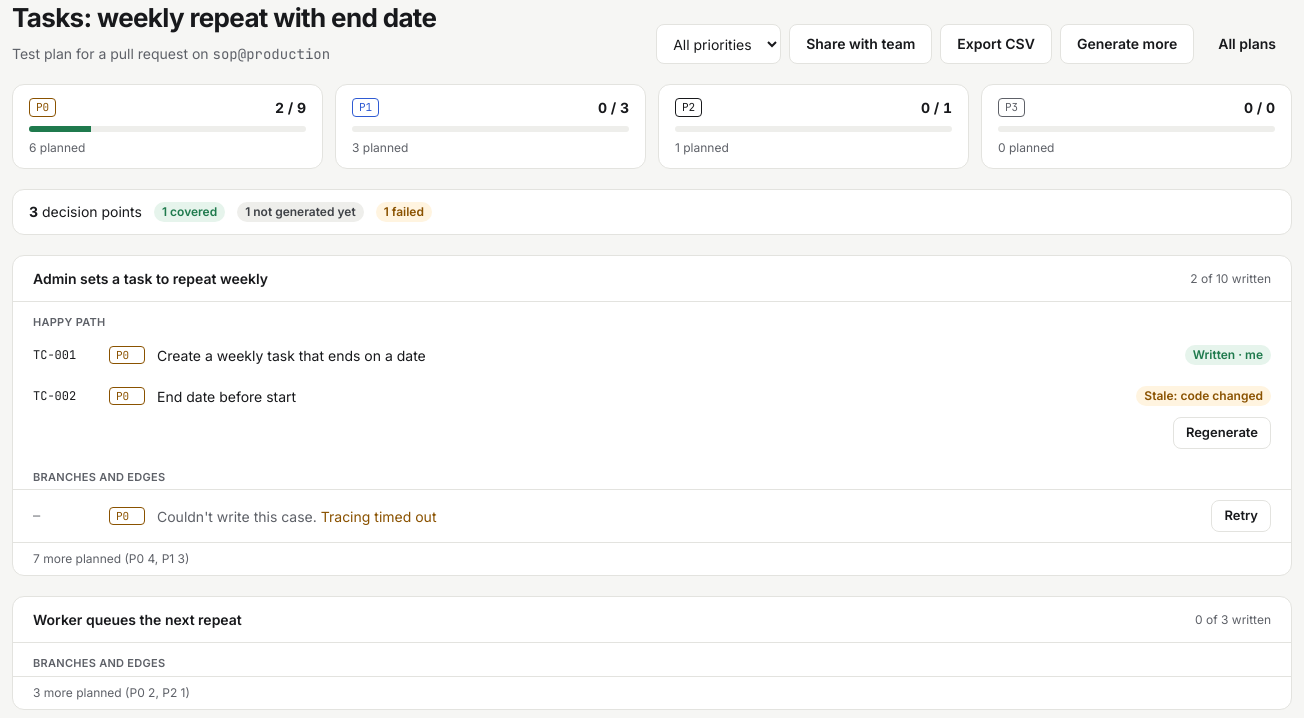
Test case: share_button_shares_and_shows_badge
Click the button "Share with team".
click(861, 44)  # box [789,24,932,64]
(page scrolled)
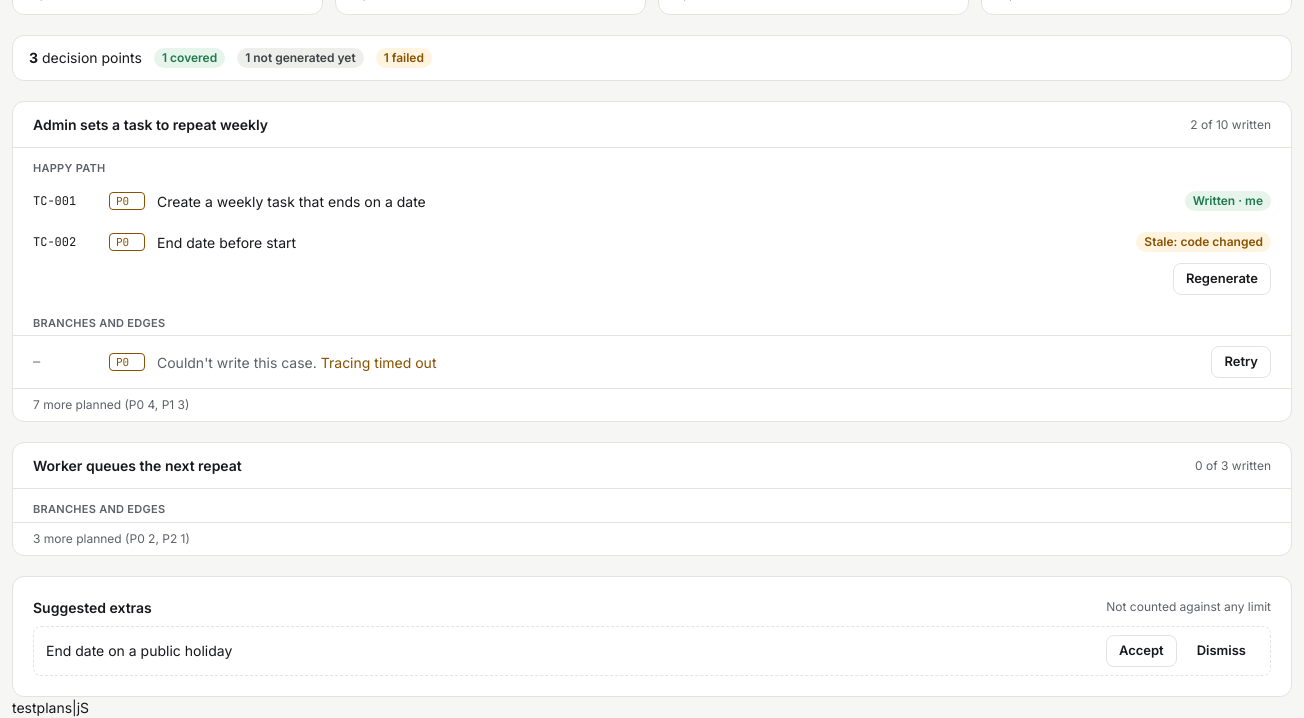
Expected: the text with test id "probe" reads "testplans|jS", [12,698,72,716]
